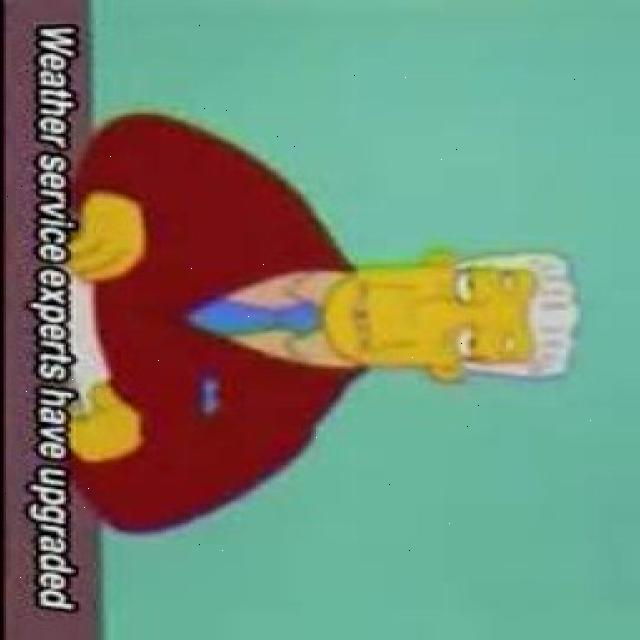Kent Brockman: (315, 244, 580, 387)
